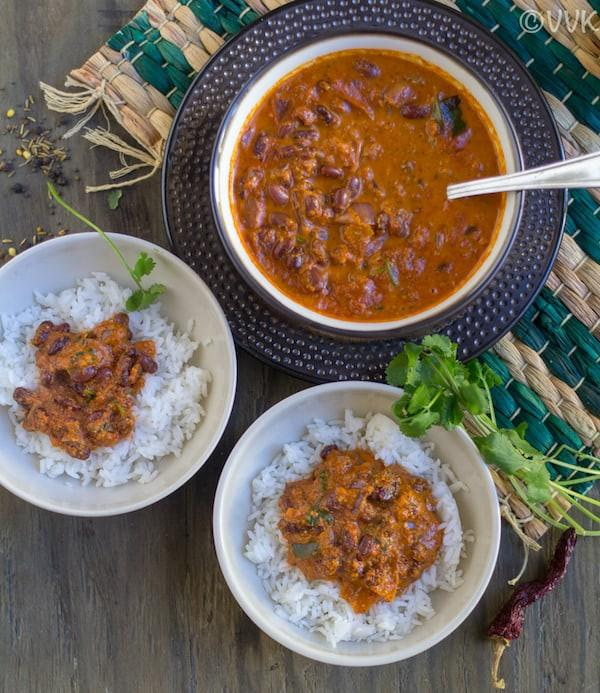RajmaCurry: (222, 42, 517, 310), (279, 442, 444, 612), (15, 312, 159, 457)
WhiteRice: (240, 407, 474, 651), (2, 272, 211, 487)
